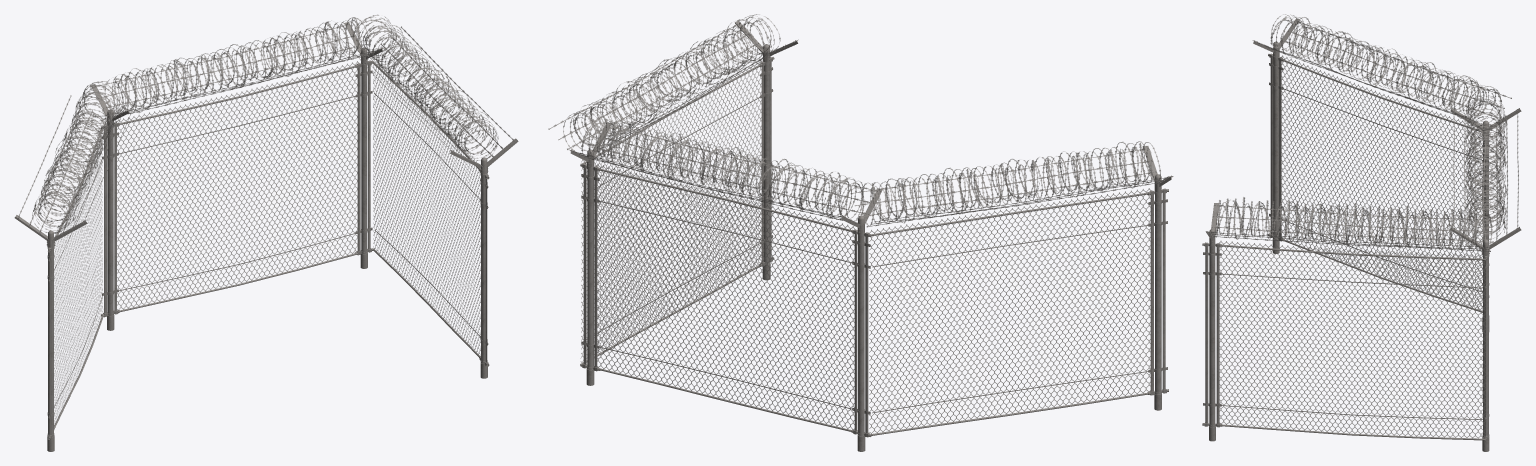
The model's file is security-fence.glb.
3 renders of one model, left to right at view 1: azimuth 30°, elevation 25°; view 2: azimuth 150°, elevation 25°; view 3: azimuth 270°, elevation 25°, orthographic. The views are drawn at different scales.
Visible parts, largest first — view 1: Chain_link_fence_01, Chain_link_fence_01.002, Chain_link_fence_01.001, Chain_link_fence_02; view 2: Chain_link_fence_01.001, Chain_link_fence_01, Chain_link_fence_01.002, Chain_link_fence_02; view 3: Chain_link_fence_01.002, Chain_link_fence_01.001, Chain_link_fence_01, Chain_link_fence_02.
Part boxes in pixels (x1,y1,x2,y2): Chain_link_fence_01: (90,17,380,330); Chain_link_fence_01.002: (339,14,518,378); Chain_link_fence_01.001: (14,81,136,451); Chain_link_fence_02: (344,22,383,268); Chain_link_fence_01.001: (850,141,1173,435); Chain_link_fence_01: (573,116,882,451); Chain_link_fence_01.002: (548,14,798,364); Chain_link_fence_02: (569,122,611,385); Chain_link_fence_01.002: (1202,197,1496,441); Chain_link_fence_01.001: (1252,14,1511,312); Chain_link_fence_01: (1450,95,1521,402); Chain_link_fence_02: (1450,227,1521,451).
Bounding box in the file's own units: 6.9 × 3.42 × 4.08.
1 material, 1 textured.
